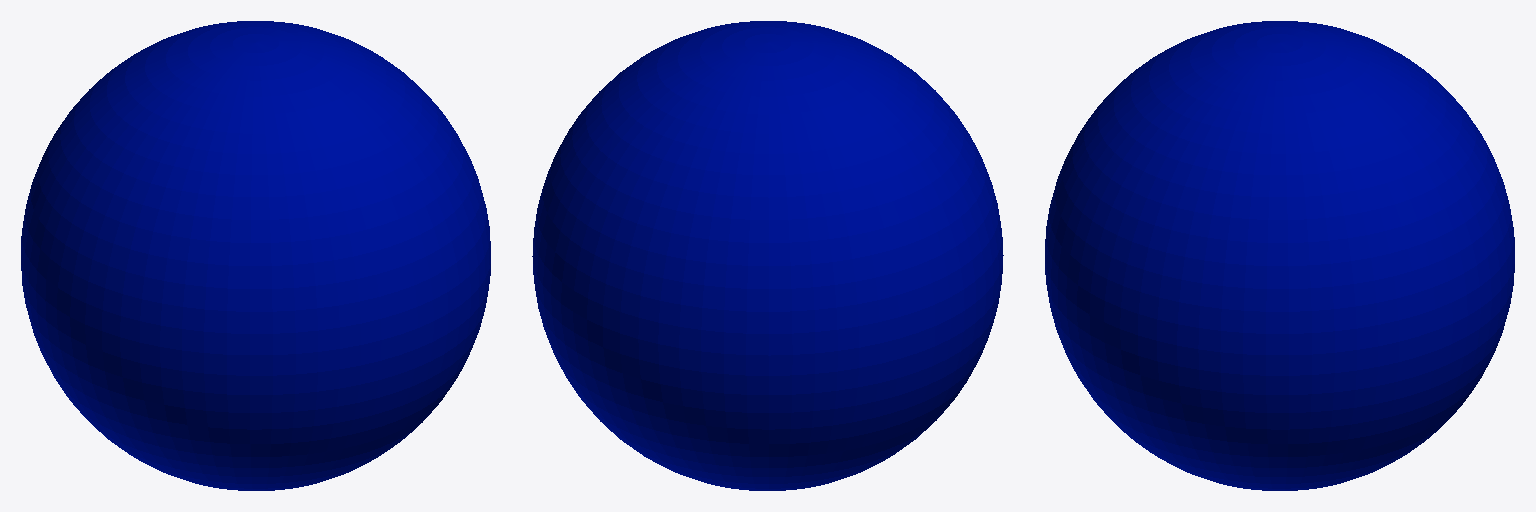
The model's file is Earth(1).obj.
The picture shows the model from 3 angles: view 1: azimuth 30°, elevation 25°; view 2: azimuth 150°, elevation 25°; view 3: azimuth 270°, elevation 25°; orthographic projection.
Parts seen in each view (by area): view 1: Earth.002; view 2: Earth.002; view 3: Earth.002.
Part boxes in pixels (x1,y1,x2,y2): Earth.002: (21, 21, 490, 490); Earth.002: (532, 21, 1003, 490); Earth.002: (1045, 21, 1514, 490).
Bounding box in the file's own units: 2.03 × 2.03 × 2.03.